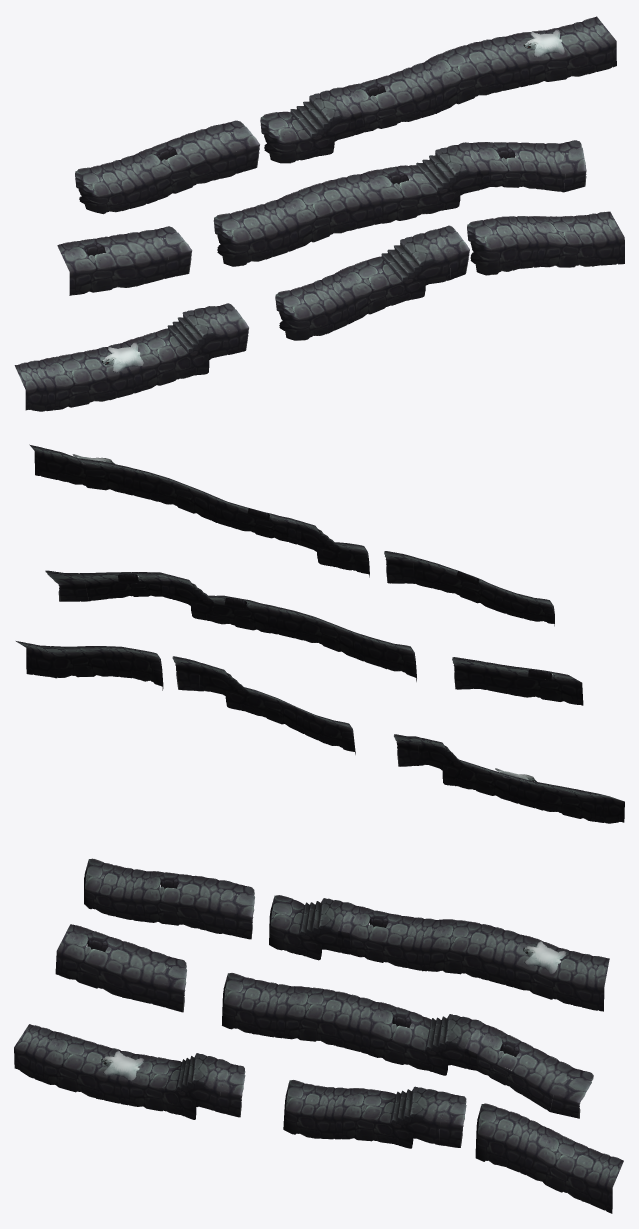
The model's file is Castle Tower_Stone Floor.FBX.
3 renders of one model, top to bottom at view 1: azimuth 30°, elevation 25°; view 2: azimuth 150°, elevation 25°; view 3: azimuth 330°, elevation 25°, orthographic.
Visible parts, largest first — view 1: Stone Floor 4, Stone Floor 7, Stone Floor 1, Stone Floor 2, Stone Floor 6, Stone Floor 3, Stone Floor 5; view 2: Stone Floor 4, Stone Floor 7, Stone Floor 1, Stone Floor 2, Stone Floor 6, Stone Floor 3, Stone Floor 5; view 3: Stone Floor 4, Stone Floor 7, Stone Floor 1, Stone Floor 2, Stone Floor 6, Stone Floor 3, Stone Floor 5.
Boxes of the visible parts, left/top/right/bottom form: Stone Floor 4: left=213, top=140, right=586, bottom=266; Stone Floor 7: left=260, top=16, right=616, bottom=163; Stone Floor 1: left=14, top=303, right=248, bottom=411; Stone Floor 2: left=275, top=225, right=469, bottom=340; Stone Floor 6: left=75, top=120, right=259, bottom=214; Stone Floor 3: left=467, top=211, right=624, bottom=275; Stone Floor 5: left=57, top=226, right=192, bottom=295; Stone Floor 4: left=45, top=570, right=416, bottom=681; Stone Floor 7: left=29, top=444, right=369, bottom=577; Stone Floor 1: left=394, top=734, right=624, bottom=823; Stone Floor 2: left=172, top=656, right=355, bottom=754; Stone Floor 6: left=384, top=551, right=554, bottom=626; Stone Floor 3: left=16, top=641, right=163, bottom=690; Stone Floor 5: left=452, top=657, right=583, bottom=705; Stone Floor 4: left=222, top=973, right=593, bottom=1118; Stone Floor 7: left=269, top=895, right=609, bottom=1011; Stone Floor 1: left=14, top=1024, right=245, bottom=1119; Stone Floor 2: left=283, top=1080, right=466, bottom=1148; Stone Floor 6: left=84, top=858, right=254, bottom=939; Stone Floor 3: left=475, top=1103, right=623, bottom=1213; Stone Floor 5: left=55, top=924, right=186, bottom=1012.
Size of the model in its own units: 5651 by 266 by 2337.
